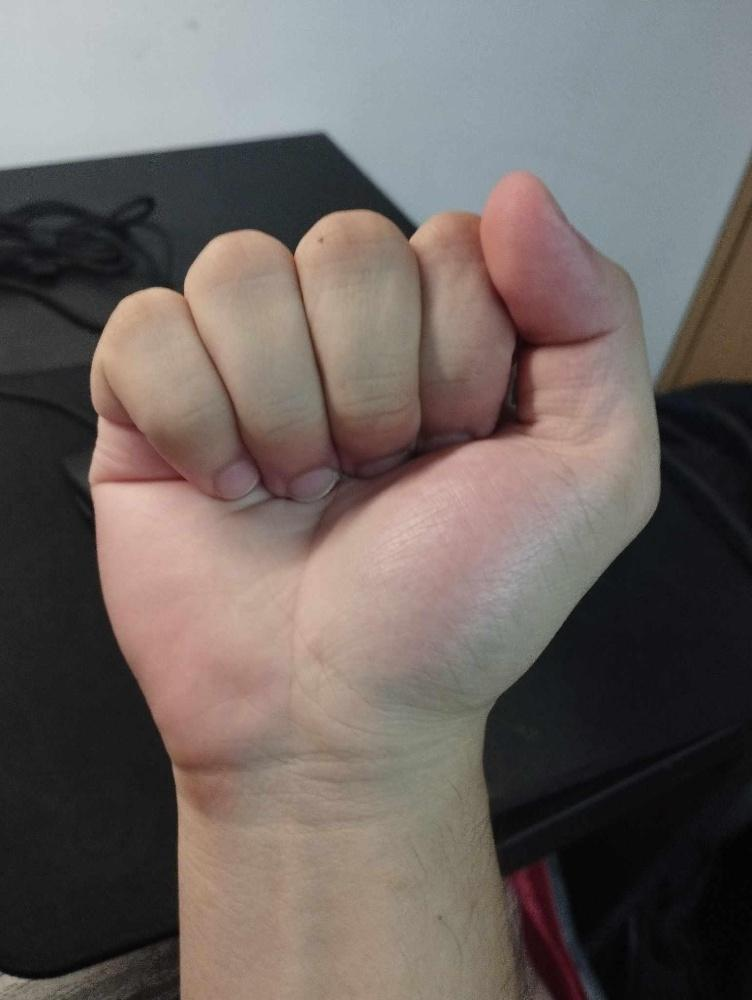a: (82, 165, 669, 777)
